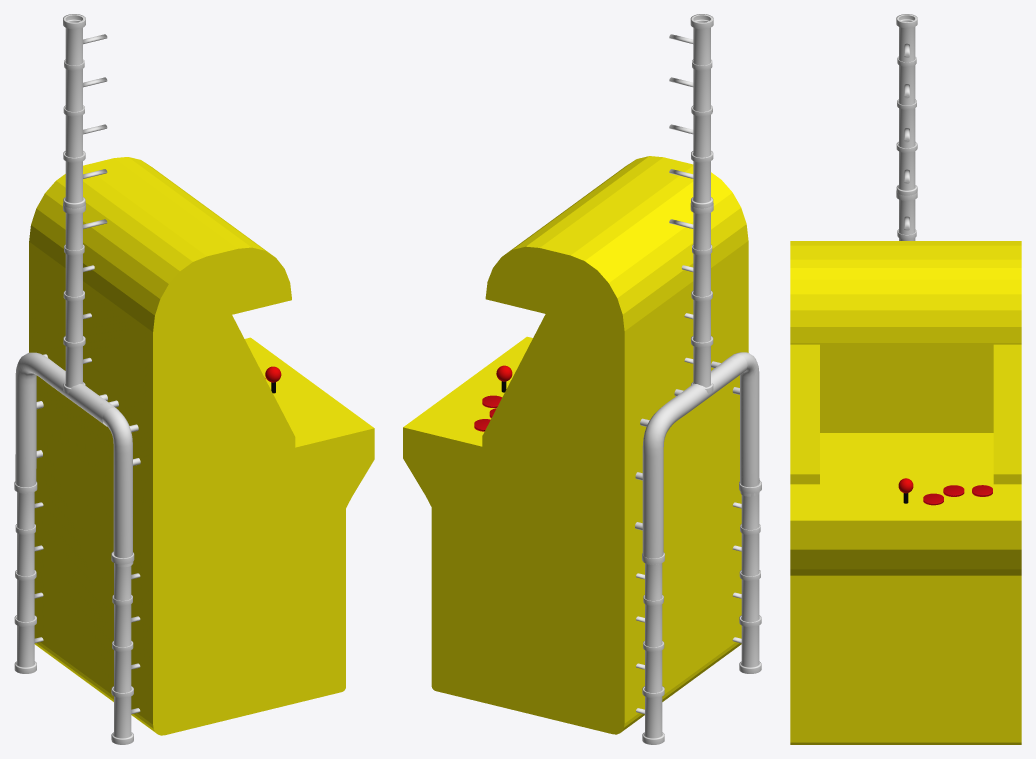
File: cabinato_portale.fbx
3 renders of one model, left to right at view 1: azimuth 30°, elevation 25°; view 2: azimuth 150°, elevation 25°; view 3: azimuth 270°, elevation 25°, orthographic. The views are drawn at different scales.
Parts seen in each view (by area): view 1: cabinet, BezierCurve.001, Cylinder.015, Cylinder.012, Cylinder.013, Cylinder.014, BezierCurve; view 2: cabinet, BezierCurve.001, Cylinder.015, Cylinder.013, Cylinder.012, Cylinder.014, BezierCurve; view 3: cabinet, Cylinder.015, Cylinder.014.
Part boxes in pixels (box(x1,y1,x2,y2)): cabinet: box(29, 157, 374, 735); BezierCurve.001: box(15, 352, 118, 493); Cylinder.015: box(63, 14, 107, 208); Cylinder.012: box(14, 481, 43, 673); Cylinder.013: box(111, 551, 140, 744); Cylinder.014: box(63, 203, 107, 393); BezierCurve: box(99, 398, 133, 567); cabinet: box(403, 156, 748, 734); BezierCurve.001: box(642, 354, 747, 564); Cylinder.015: box(669, 14, 713, 208); Cylinder.013: box(732, 480, 761, 673); Cylinder.012: box(636, 552, 664, 744); Cylinder.014: box(669, 203, 713, 393); BezierCurve: box(721, 352, 759, 496); cabinet: box(790, 241, 1021, 744); Cylinder.015: box(896, 14, 917, 195); Cylinder.014: box(896, 190, 917, 240).
Bounding box in the file's own units: 1275 × 3375 × 1105.
